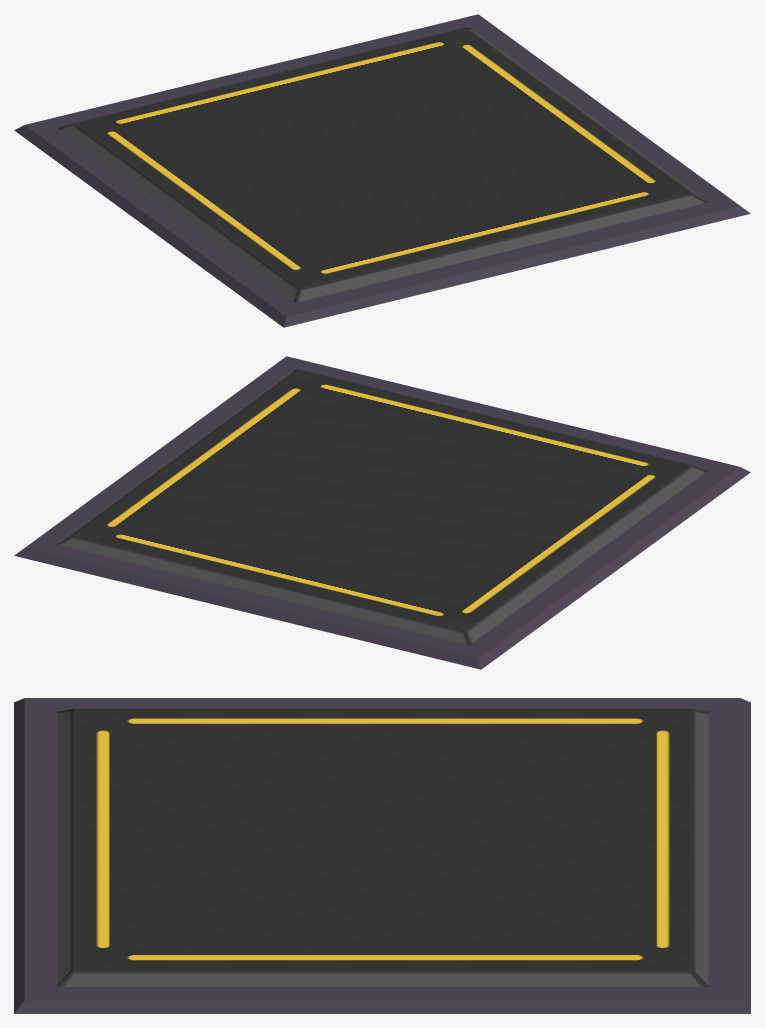
File: Build_Area_Textured.fbx
The picture shows the model from 3 angles, top to bottom: view 1: azimuth 30°, elevation 25°; view 2: azimuth 150°, elevation 25°; view 3: azimuth 270°, elevation 25°; orthographic projection. The views are drawn at different scales.
Parts seen in each view (by area): view 1: pCube1; view 2: pCube1; view 3: pCube1.
Boxes of the visible parts, x1,y1,x2,y2 form: pCube1: (14, 14, 750, 327); pCube1: (14, 356, 750, 669); pCube1: (14, 698, 750, 1013).
Size of the model in its own units: 250 by 7.07 by 250.
1 material, 1 textured.
